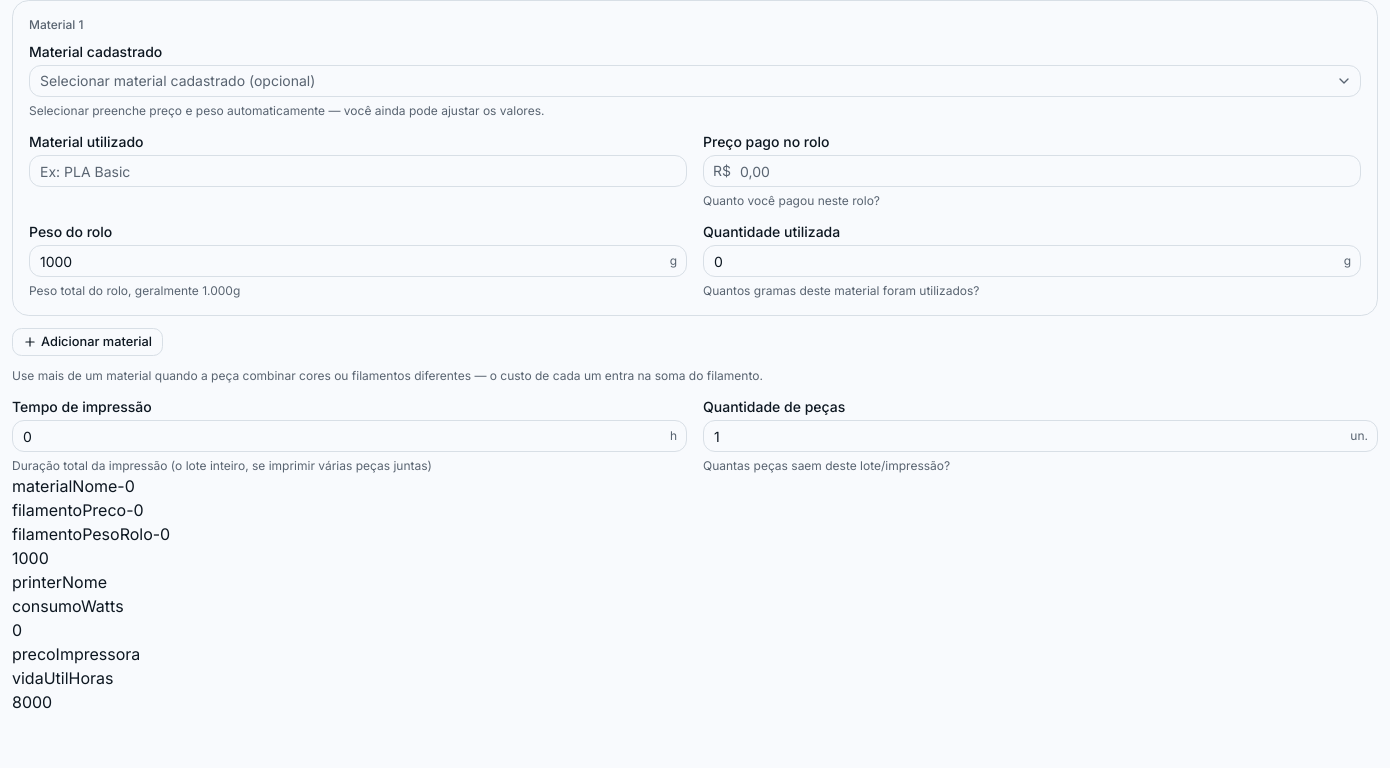
Test: Integração calculadora ↔ cadastros › selecionar um material cadastrado preenche nome, preço e peso automaticamente
Step 1. Click the dropdown labelled "material cadastrado" → (178, 80), box [29,65,1361,97]
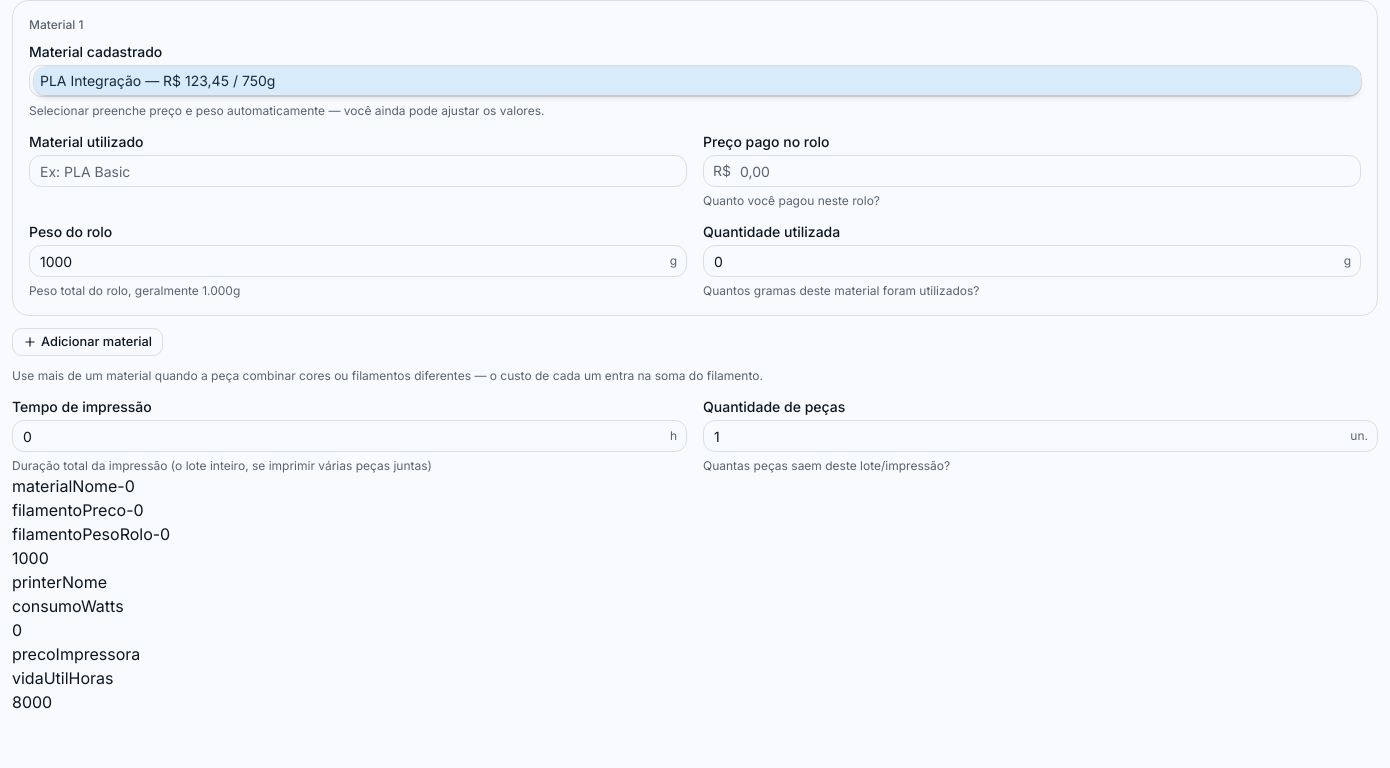
Step 2. Click the option "PLA Integração — R$ 123,45 / 750g" → (91, 80), box [34,67,1361,95]
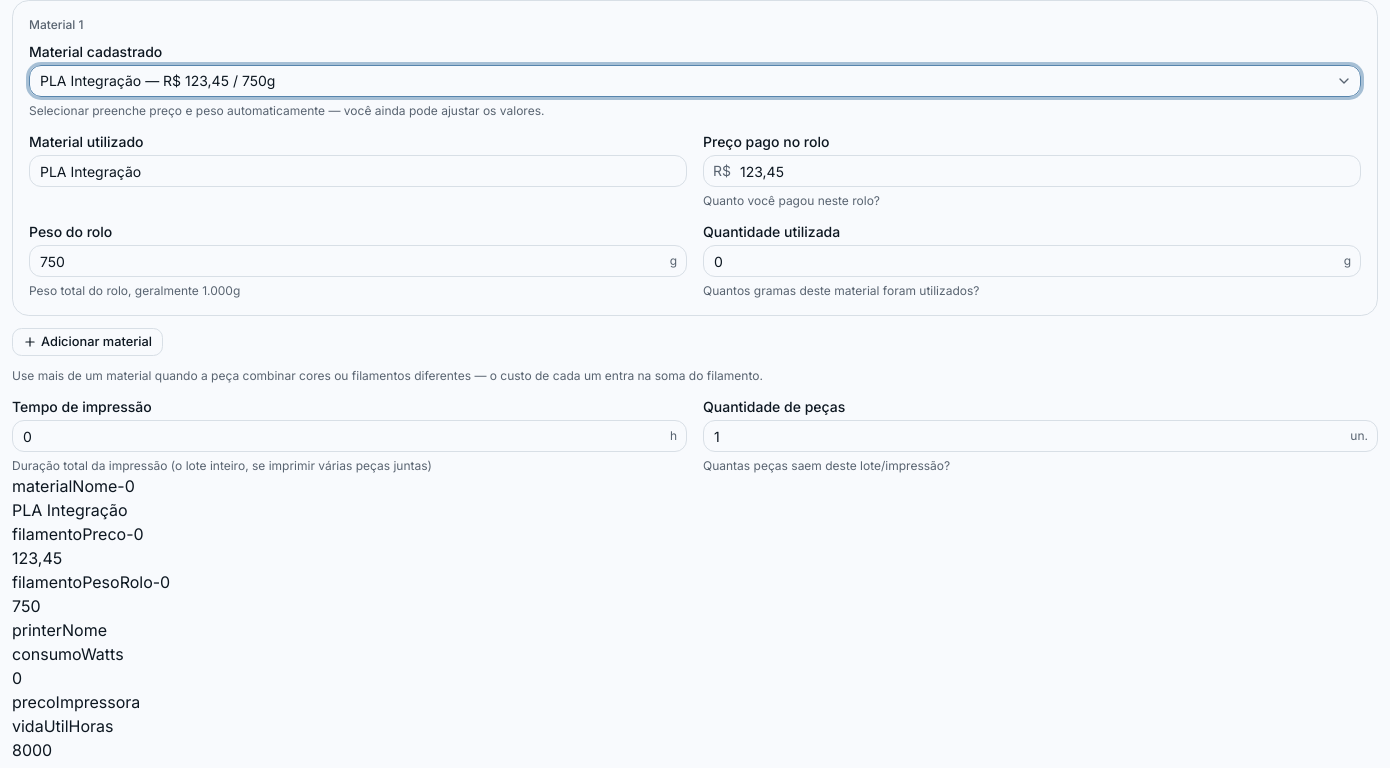
Check: the text with test id "materialNome-0" reads "PLA Integração", box [12,500,128,520]
Check: the text with test id "filamentoPreco-0" reads "123,45", box [12,548,62,568]
Check: the text with test id "filamentoPesoRolo-0" reads "750", box [12,596,40,616]
